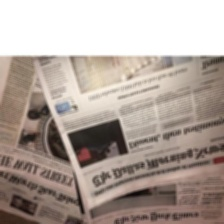news_paper: (28, 54, 224, 212), (0, 53, 92, 202), (73, 172, 223, 223), (0, 169, 87, 224)
